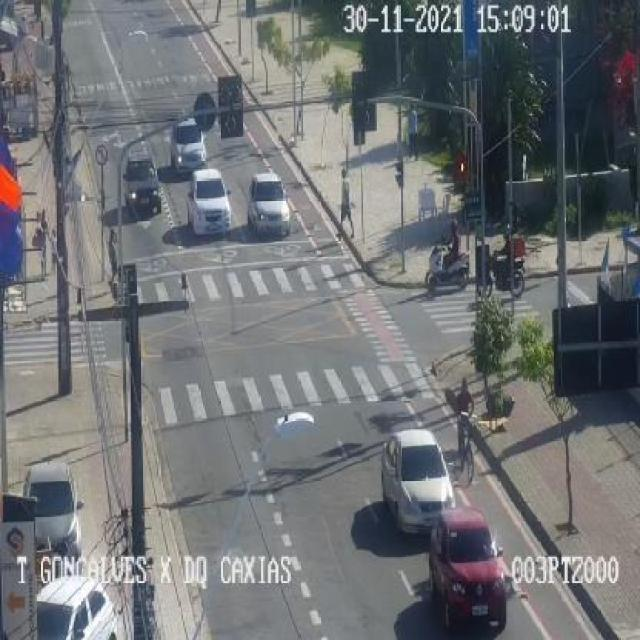Car: (428, 510, 508, 632), (374, 420, 448, 520), (22, 462, 81, 560), (36, 577, 118, 639), (187, 169, 232, 235), (247, 172, 291, 237), (122, 152, 162, 218), (170, 118, 206, 174)
Cycle: (449, 381, 484, 479), (478, 242, 538, 298), (417, 247, 468, 305)
